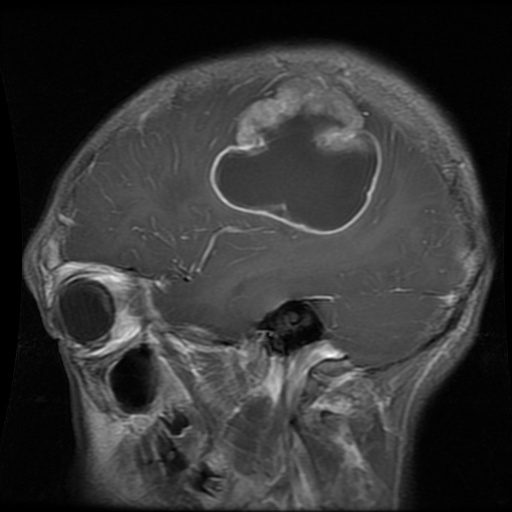glioma: (206, 72, 385, 238)
